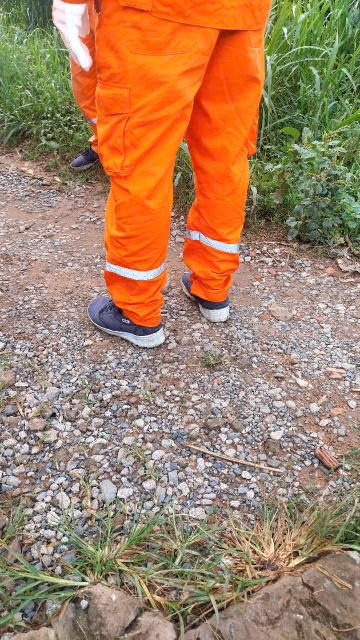gloves: (36, 3, 106, 67)
shoes: (71, 286, 173, 367), (176, 261, 244, 320), (56, 143, 103, 172)
